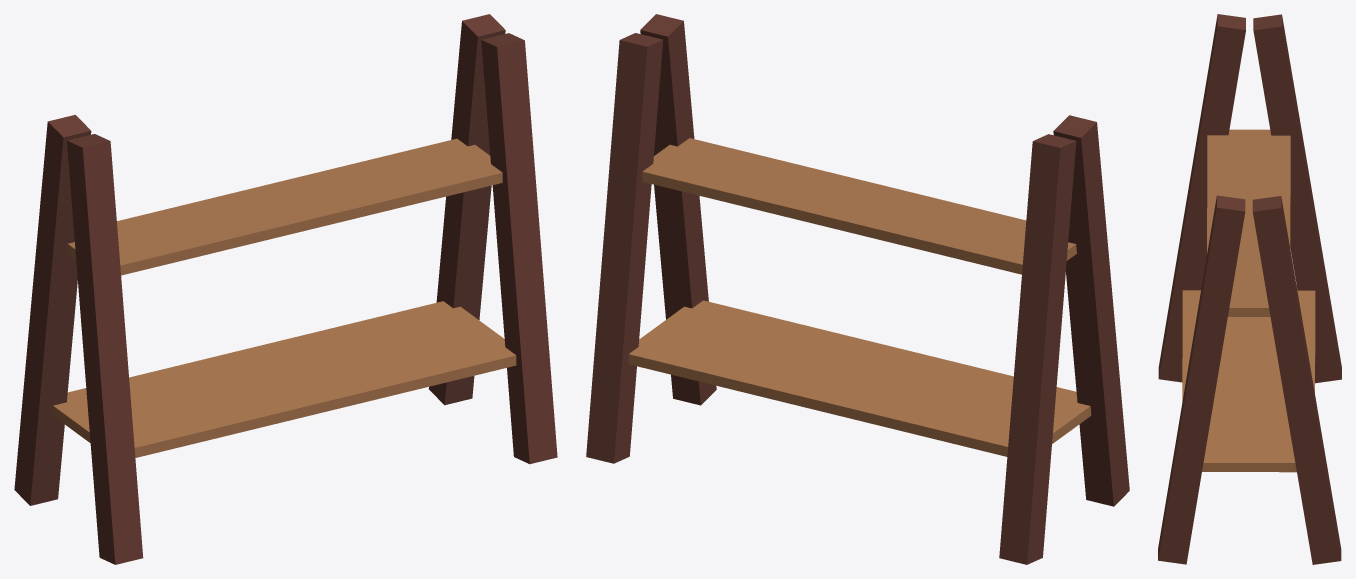
File: shelf.fbx
The picture shows the model from 3 angles, left to right: view 1: azimuth 30°, elevation 25°; view 2: azimuth 150°, elevation 25°; view 3: azimuth 270°, elevation 25°; orthographic projection. The views are drawn at different scales.
Visible parts, largest first — view 1: shelving; view 2: shelving; view 3: shelving.
Part boxes in pixels (box(x1,y1,x2,y2)): shelving: box(14, 14, 557, 564); shelving: box(586, 14, 1129, 564); shelving: box(1158, 14, 1341, 564).
Bounding box in the file's own units: 62.81 × 53.88 × 25.16.
